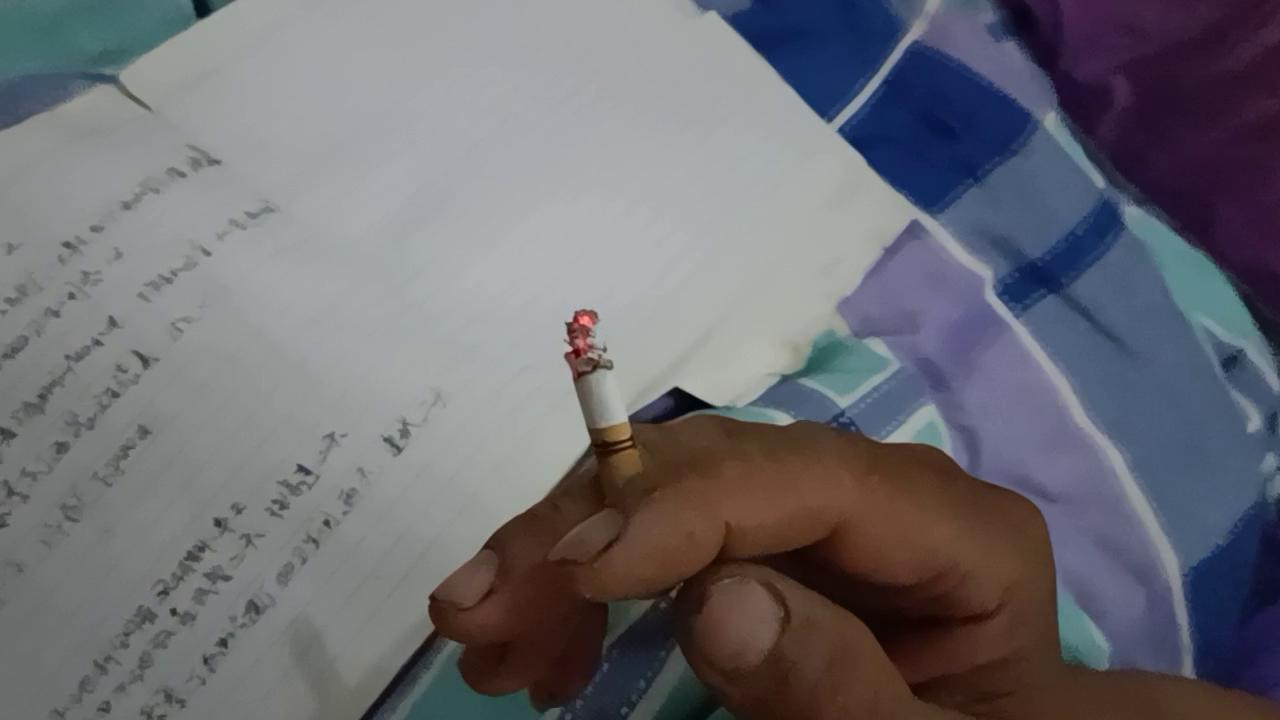smoke: (566, 307, 666, 556)
